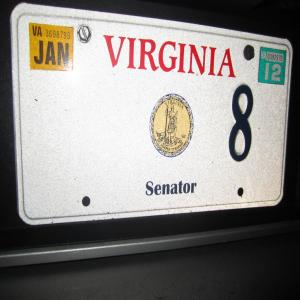Vehicle-registration-plate: (24, 14, 292, 224)
